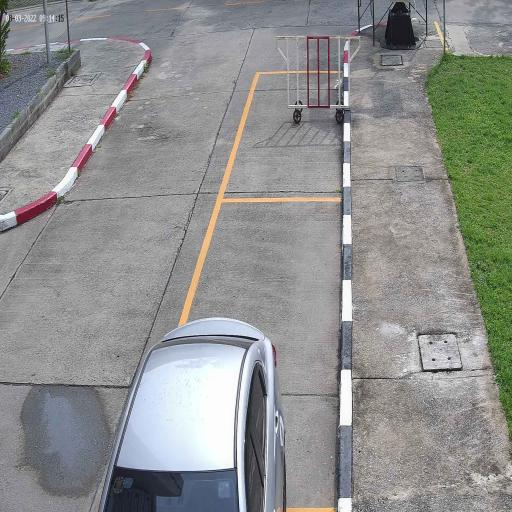car: (96, 315, 288, 512)
